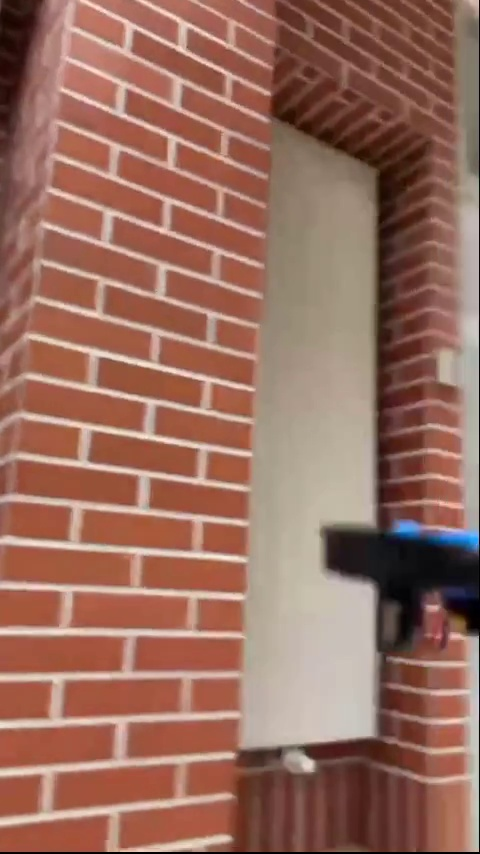drone: (319, 519, 480, 648)
